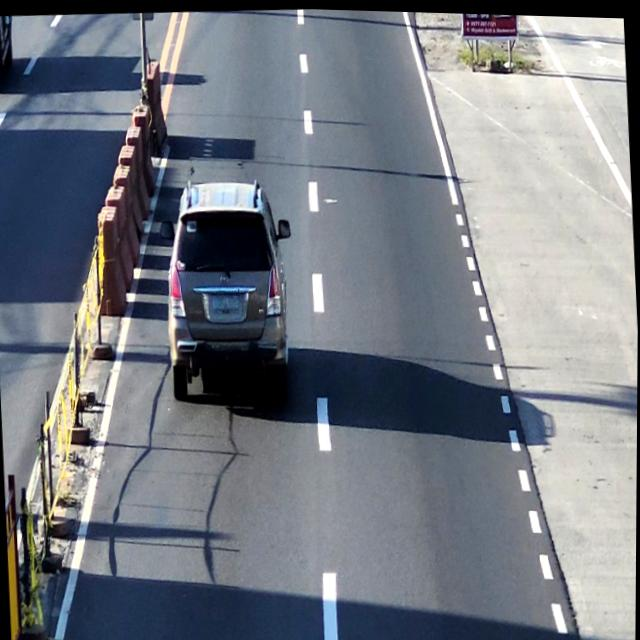Car: (161, 178, 299, 406)
